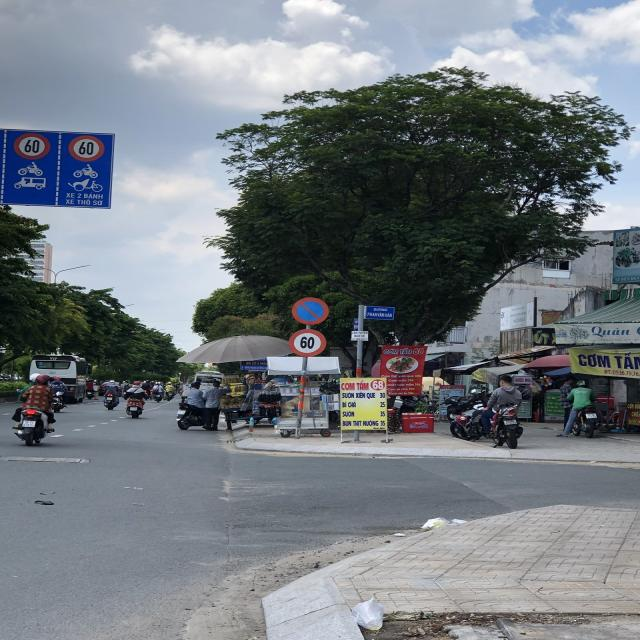Bien bao cam do xe: (287, 293, 332, 327)
Bien bao toc do toi da cho phep: (64, 131, 109, 164), (288, 327, 329, 358), (11, 132, 52, 160)
